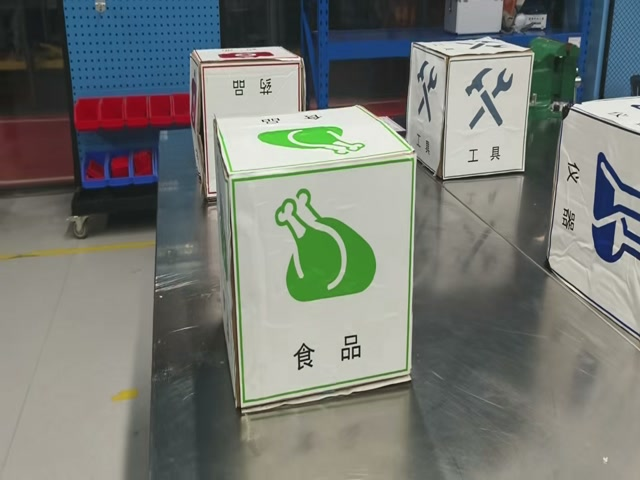Cube_food: (211, 102, 417, 176)
Cube_ins: (564, 97, 640, 138)
Cube_medicine: (188, 48, 301, 72)
Cube_tool: (416, 39, 537, 64)
